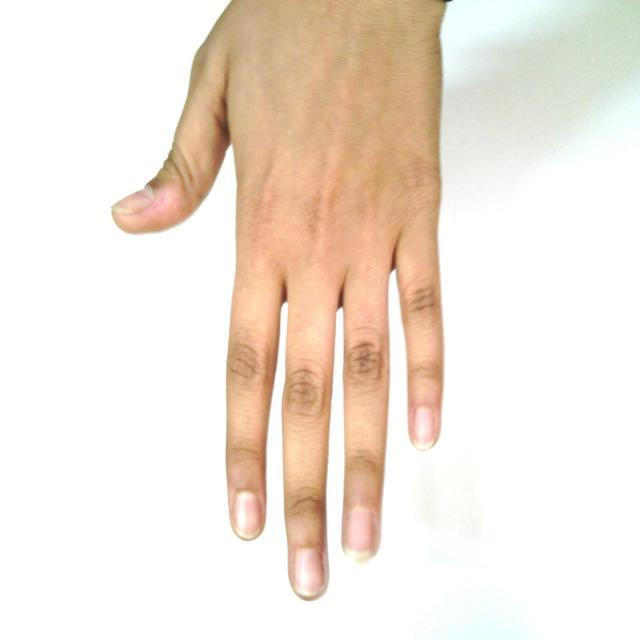Fingernail: (345, 510, 374, 563), (294, 548, 323, 599), (235, 493, 261, 539), (114, 188, 154, 215), (413, 408, 436, 450)
